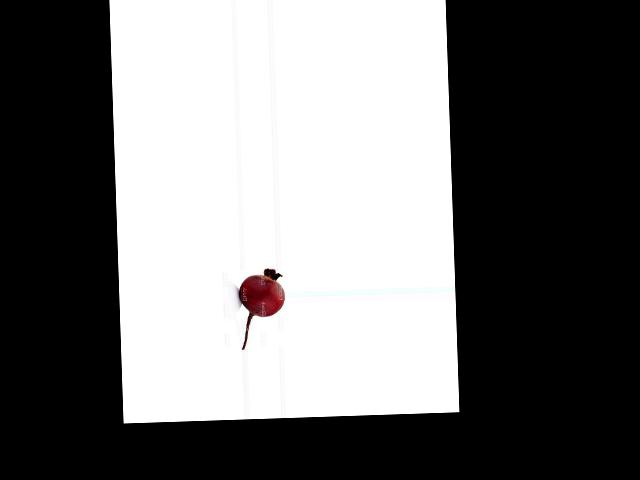beet: (238, 267, 286, 349)
